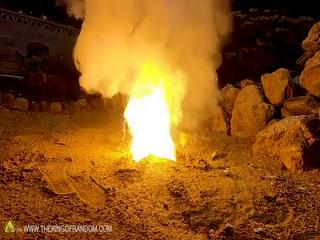Fire: (123, 73, 178, 161)
